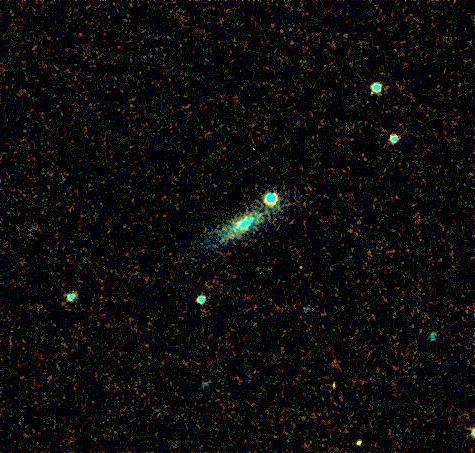star: (343, 423, 373, 453)
